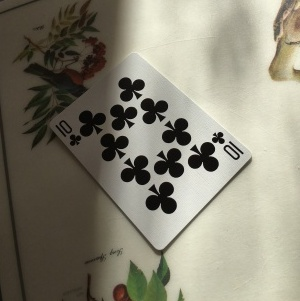card: (47, 51, 252, 250)
